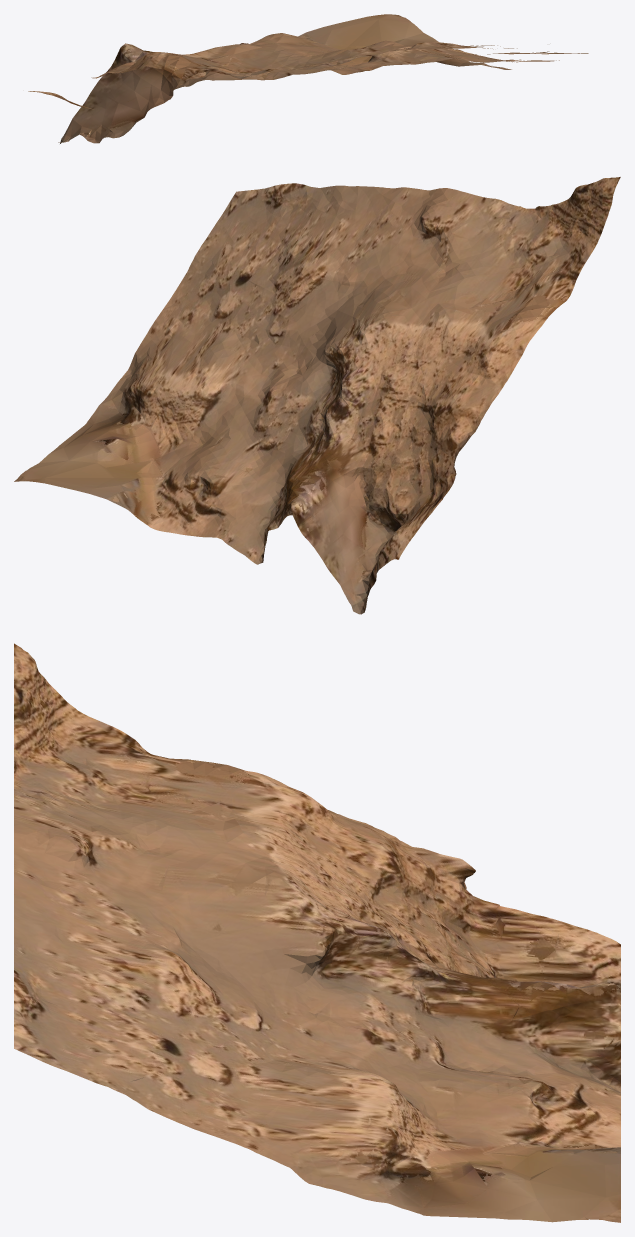
3 views of the same model, one above another, from view 1: azimuth 30°, elevation 25°; view 2: azimuth 150°, elevation 25°; view 3: azimuth 270°, elevation 25° (orthographic). The views are drawn at different scales.
Size of the model in its own units: 1.04 by 0.7391 by 1.04.
3 materials, 3 textured.
